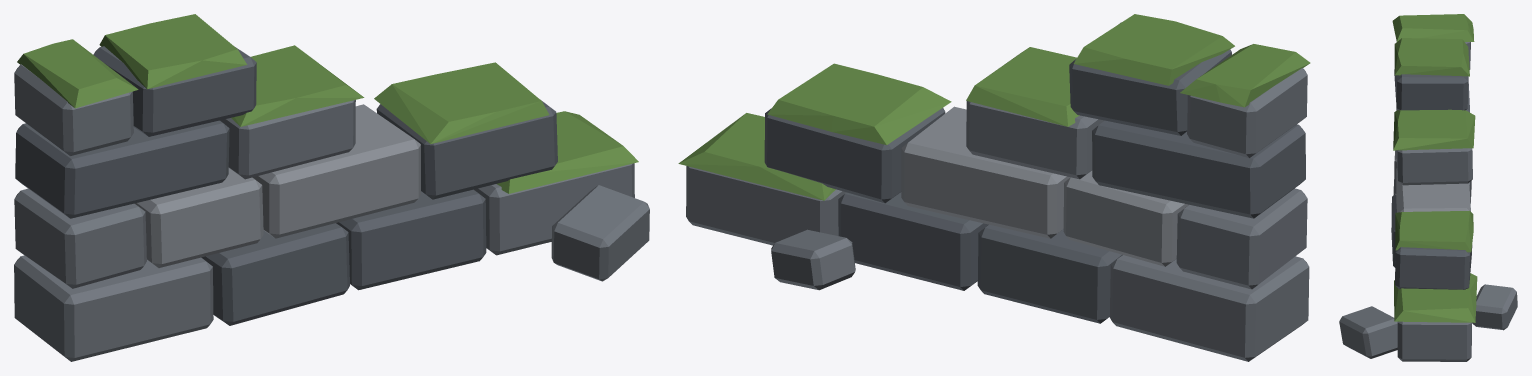
File: Ruin_Wall.fbx
3 renders of one model, left to right at view 1: azimuth 30°, elevation 25°; view 2: azimuth 150°, elevation 25°; view 3: azimuth 270°, elevation 25°, orthographic. The views are drawn at different scales.
Visible parts, largest first — view 1: Stone, Stone3, Moss, Stone2; view 2: Stone, Stone3, Moss, Stone2; view 3: Moss, Stone, Stone3, Stone2.
Boxes of the visible parts, bbox=[...] form: Stone: bbox=[14, 64, 649, 361]; Stone3: bbox=[15, 46, 557, 325]; Moss: bbox=[17, 14, 638, 193]; Stone2: bbox=[134, 104, 420, 267]; Stone: bbox=[686, 68, 1309, 361]; Stone3: bbox=[764, 22, 1305, 323]; Moss: bbox=[678, 14, 1310, 200]; Stone2: bbox=[901, 106, 1188, 266]; Moss: bbox=[1392, 14, 1477, 322]; Stone: bbox=[1339, 42, 1517, 361]; Stone3: bbox=[1391, 69, 1472, 289]; Stone2: bbox=[1394, 150, 1470, 212].
Bounding box in the file's own units: 7.96 × 3.71 × 3.34.
